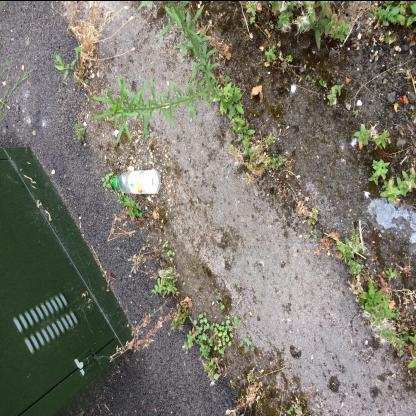plastik: (113, 169, 162, 195)
